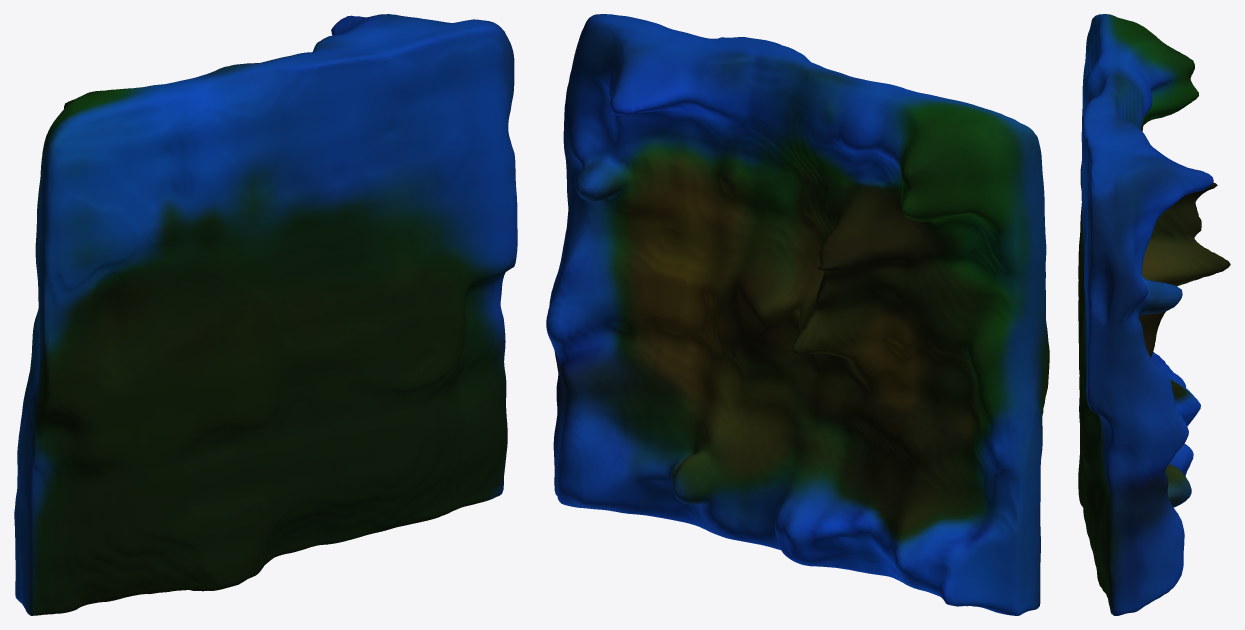
Rendered from Low_poly_Mountain.FBX.
3 views of the same model, side by side, from view 1: azimuth 30°, elevation 25°; view 2: azimuth 150°, elevation 25°; view 3: azimuth 270°, elevation 25° (orthographic). The views are drawn at different scales.
Parts seen in each view (by area): view 1: plyFile; view 2: plyFile; view 3: plyFile.
Part boxes in pixels (<box>): plyFile: <box>14,14,517,615</box>; plyFile: <box>546,14,1049,615</box>; plyFile: <box>1078,14,1230,615</box>.
Bounding box in the file's own units: 198 × 197 × 63.13.
